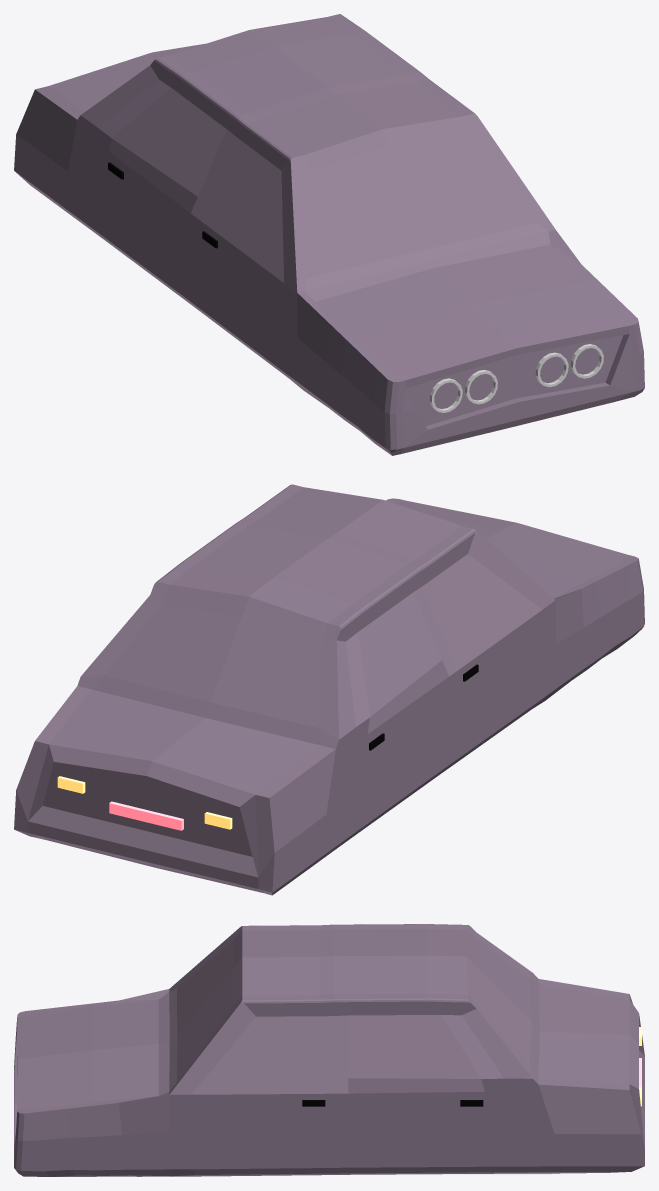
The model's file is modern_car.fbx.
3 views of the same model, one above another, from view 1: azimuth 30°, elevation 25°; view 2: azimuth 150°, elevation 25°; view 3: azimuth 270°, elevation 25° (orthographic). The views are drawn at different scales.
Parts seen in each view (by area): view 1: karoseria, szyby, reer_lights, karoseria 2; view 2: karoseria, szyby, karoseria 2, swietlo_tyl, backlights_skrencaie; view 3: karoseria, szyby, karoseria 2.
Part boxes in pixels (box(x1,y1,x2,y2)): karoseria: box(14, 14, 644, 455); szyby: box(109, 88, 537, 282); reer_lights: box(429, 344, 603, 412); karoseria 2: box(16, 172, 391, 455); karoseria: box(14, 484, 644, 895); szyby: box(105, 554, 542, 733); karoseria 2: box(272, 627, 643, 895); swietlo_tyl: box(109, 801, 183, 830); backlights_skrencaie: box(57, 776, 232, 829); karoseria: box(14, 924, 644, 1173); szyby: box(177, 941, 531, 1094); karoseria 2: box(18, 1166, 643, 1176).
Bounding box in the file's own units: 162 × 125 × 402.
